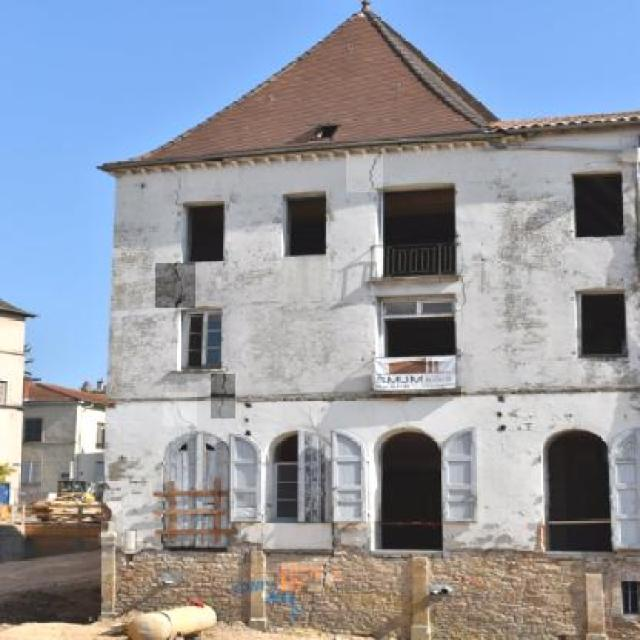Crack: (163, 392, 199, 433), (164, 263, 189, 308), (212, 375, 236, 420), (363, 153, 383, 191), (305, 403, 319, 428), (459, 273, 467, 306)
